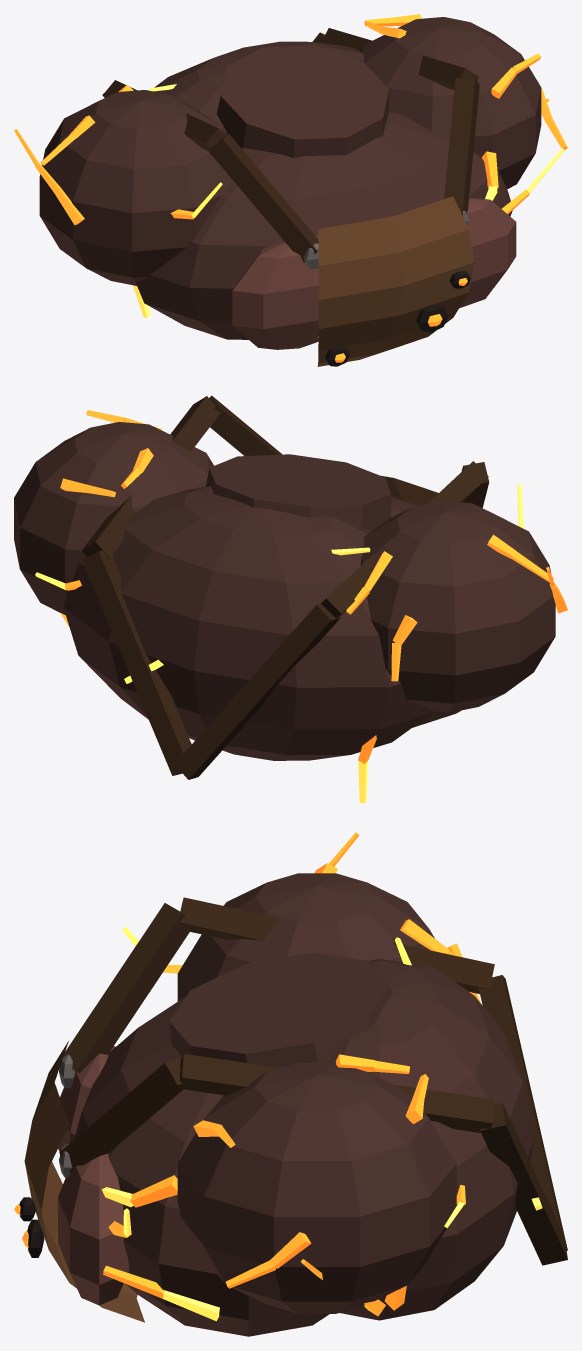
The model's file is ember_giant_chest.glb.
3 views of the same model, one above another, from view 1: azimuth 30°, elevation 25°; view 2: azimuth 150°, elevation 25°; view 3: azimuth 270°, elevation 25° (orthographic). The views are drawn at different scales.
Parts seen in each view (by area): view 1: ember_giant_chest; view 2: ember_giant_chest; view 3: ember_giant_chest.
Boxes of the visible parts, <box> form: ember_giant_chest: <box>14,14,567,366</box>; ember_giant_chest: <box>14,395,567,803</box>; ember_giant_chest: <box>14,832,567,1336</box>.
Size of the model in its own units: 1.24 by 0.5902 by 0.8901.
